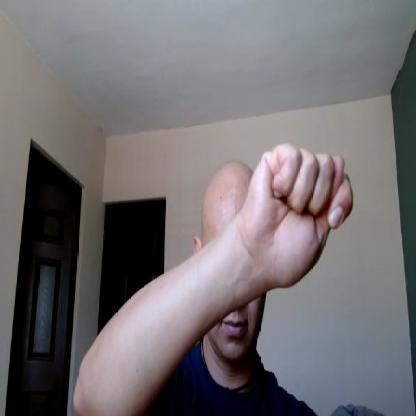T: (245, 144, 354, 286)
